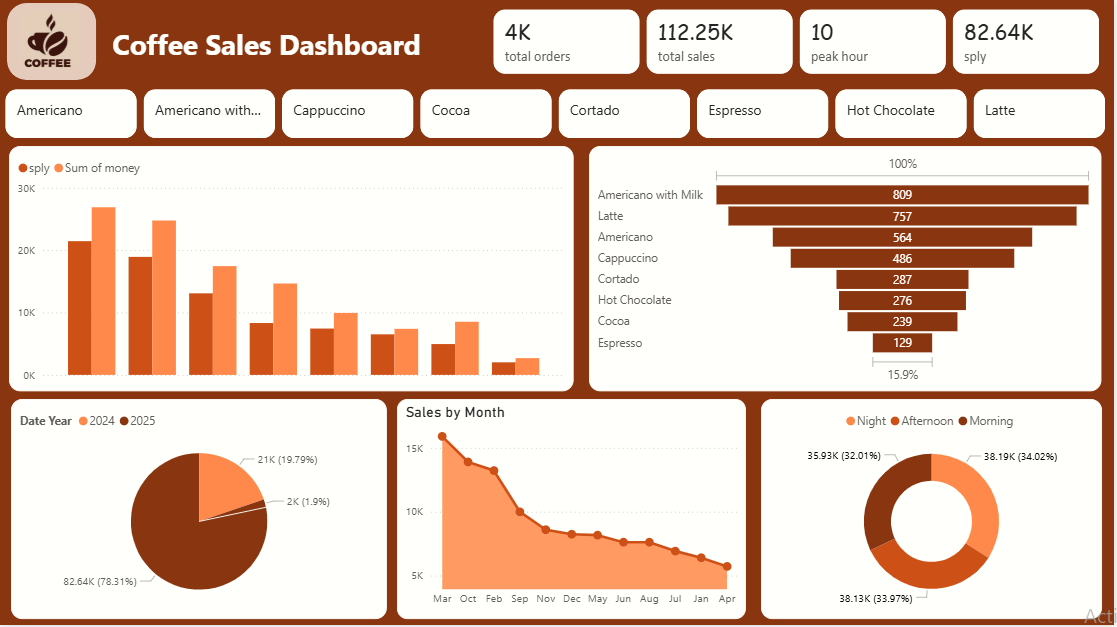

What the dashboard file says about the page in this screenshot:
{"tool":"powerbi","page":{"name":"Page 1","canvas":[1280,720],"ordinal":0},"visuals":[{"type":"cardVisual","fields":{"Data":["Coffe_sales.total orders","Coffe_sales.total sales","Coffe_sales.peak hour","Coffe_sales.sply"]},"box":[555.4,0,721.6,98.6],"z":0},{"type":"shape","box":[7.6,5.1,102.5,88.6],"z":1000},{"type":"image","box":[12.7,12.7,87.3,68.4],"z":2000},{"type":"advancedSlicerVisual","fields":{"Values":["Coffe_sales.coffee_name"]},"box":[1.4,98.6,1278.4,66.2],"z":3000},{"type":"stackedAreaChart","title":"Sales by Month","fields":{"Y":["Coffe_sales.total sales"],"Category":["Coffe_sales.Month_name"]},"box":[456.8,459.5,401.4,252.7],"z":4000},{"type":"donutChart","fields":{"Category":["Coffe_sales.Time_of_Day"],"Y":["Sum(Coffe_sales.money)"]},"box":[874.3,459.5,391.9,252.7],"z":5000},{"type":"clusteredColumnChart","fields":{"Y":["Coffe_sales.sply","Sum(Coffe_sales.money)"],"Category":["Coffe_sales.coffee_name"]},"box":[10.8,168.9,648.6,282.4],"z":6000},{"type":"textbox","box":[124.3,24.3,387.8,74.3],"z":7000},{"type":"pieChart","fields":{"Category":["Coffe_sales.Date.Variation.Date Hierarchy.Year","Coffe_sales.Date.Variation.Date Hierarchy.Quarter","Coffe_sales.Date.Variation.Date Hierarchy.Month","Coffe_sales.Date.Variation.Date Hierarchy.Day"],"Y":["Sum(Coffe_sales.Monthsort)","Coffe_sales.sply"]},"box":[12.2,459.5,432.4,252.7],"z":8000},{"type":"funnel","fields":{"Category":["Coffe_sales.coffee_name","Coffe_sales.cash_type"],"Y":["Coffe_sales.total orders"]},"box":[677,168.9,589.2,282.4],"z":9000}]}

Visuals, with their boxes in screenshot pixels (x1, y1, x2, y2), scaled from the page's 1280x720 canvas onto the 1117x627 screenshot:
cardVisual - Coffe_sales.total orders x Coffe_sales.total sales: <box>485,0,1114,86</box>
shape: <box>7,4,96,82</box>
image: <box>11,11,87,71</box>
advancedSlicerVisual - Coffe_sales.coffee_name: <box>1,86,1116,144</box>
"Sales by Month" stackedAreaChart: <box>399,400,749,620</box>
donutChart - Coffe_sales.Time_of_Day x Sum(Coffe_sales.money): <box>763,400,1105,620</box>
clusteredColumnChart - Coffe_sales.sply x Sum(Coffe_sales.money): <box>9,147,575,393</box>
textbox: <box>108,21,447,86</box>
pieChart - Coffe_sales.Date.Variation.Date Hierarchy.Year x Coffe_sales.Date.Variation.Date Hierarchy.Quarter: <box>11,400,388,620</box>
funnel - Coffe_sales.coffee_name x Coffe_sales.cash_type: <box>591,147,1105,393</box>
